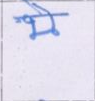au_matra: (27, 0, 65, 28)
